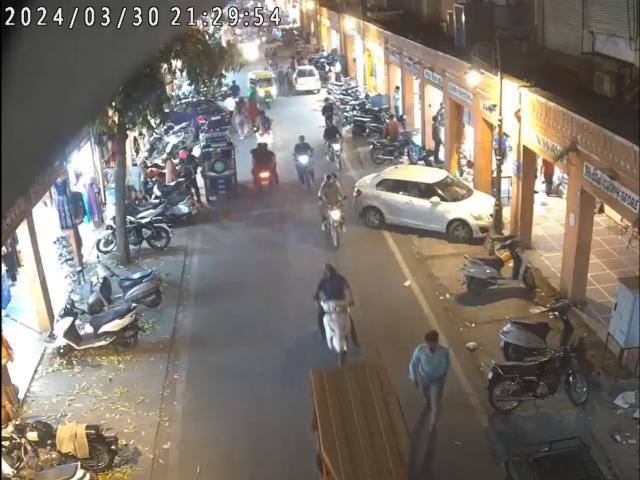car: (352, 163, 496, 245)
helmet: (320, 263, 340, 282)
motorbike: (489, 340, 594, 414), (5, 412, 123, 474)
person: (410, 328, 448, 434)
scooty: (494, 294, 586, 362), (51, 293, 148, 355), (458, 237, 538, 294), (85, 260, 166, 308)
scooty-rider: (312, 258, 364, 359), (292, 134, 318, 192)
